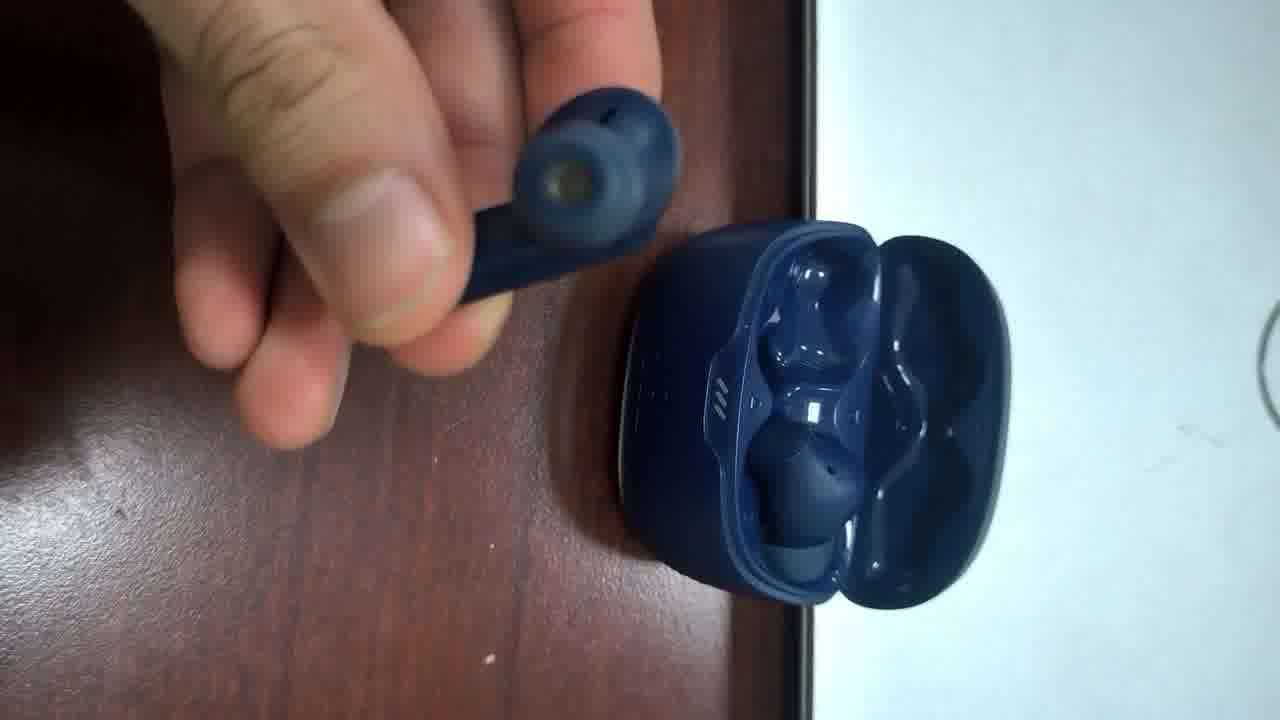Earbud: (461, 86, 679, 301), (746, 416, 864, 545)
Empty_Slot: (757, 237, 878, 388)
